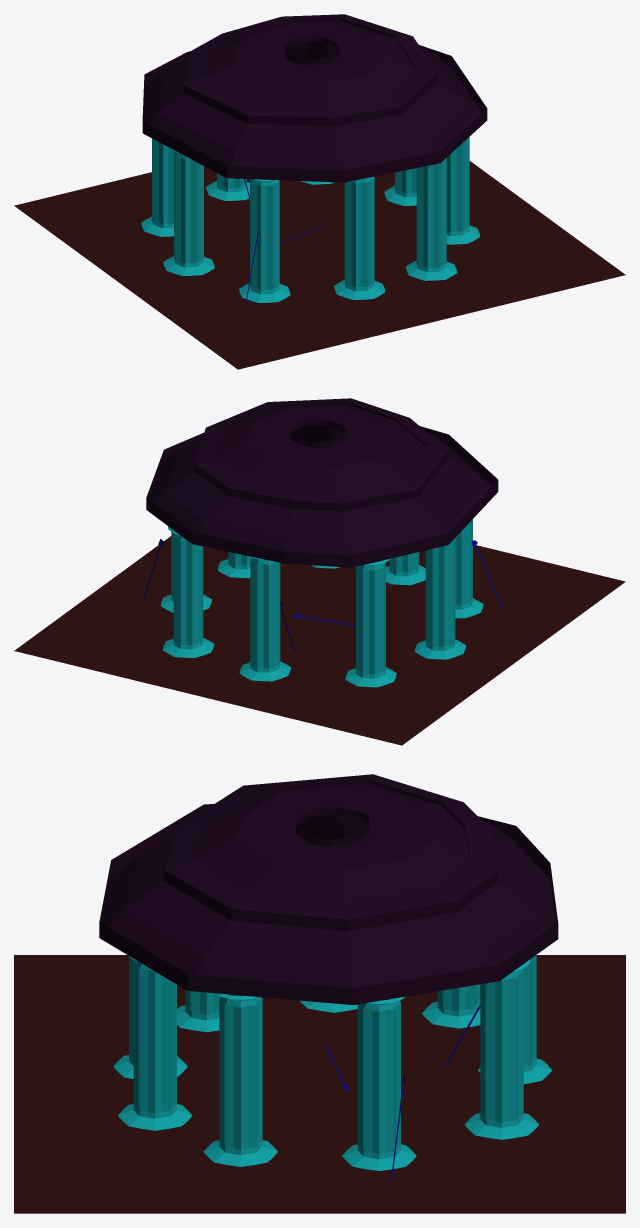
The model's file is SpearYard.obj.
3 views of the same model, one above another, from view 1: azimuth 30°, elevation 25°; view 2: azimuth 150°, elevation 25°; view 3: azimuth 270°, elevation 25° (orthographic). The views are drawn at different scales.
Parts seen in each view (by area): view 1: Plane, Plane.012_Plane.013, Plane.003_Plane.014, Plane.001_Plane.012, Plane.004_Plane.015, Plane.002, Plane.005_Plane.016, Plane.009_Plane.020, Plane.006_Plane.017, Plane.008_Plane.019; view 2: Plane, Plane.012_Plane.013, Plane.008_Plane.019, Plane.009_Plane.020, Plane.007_Plane.018, Plane.002, Plane.001_Plane.012, Plane.003_Plane.014, Plane.005_Plane.016, Plane.006_Plane.017; view 3: Plane, Plane.012_Plane.013, Plane.005_Plane.016, Plane.006_Plane.017, Plane.007_Plane.018, Plane.004_Plane.015, Plane.008_Plane.019, Plane.009_Plane.020, Plane.001_Plane.012, Plane.003_Plane.014.
Part boxes in pixels (x1,y1,x2,y2): Plane: (14,161,625,369); Plane.012_Plane.013: (142,14,487,182); Plane.003_Plane.014: (334,176,385,299); Plane.001_Plane.012: (239,179,290,302); Plane.004_Plane.015: (406,158,457,280); Plane.002: (163,148,214,275); Plane.005_Plane.016: (446,137,480,244); Plane.009_Plane.020: (141,138,173,236); Plane.006_Plane.017: (384,168,416,205); Plane.008_Plane.019: (206,173,249,200); Plane: (14,536,625,745); Plane.012_Plane.013: (146,398,498,567); Plane.008_Plane.019: (239,556,290,681); Plane.009_Plane.020: (345,558,396,687); Plane.007_Plane.018: (162,526,214,657); Plane.002: (414,538,466,659); Plane.001_Plane.012: (455,519,483,618); Plane.003_Plane.014: (386,552,425,585); Plane.005_Plane.016: (217,552,251,578); Plane.006_Plane.017: (160,532,211,612); Plane: (14,955,625,1213); Plane.012_Plane.013: (99,774,558,1004); Plane.005_Plane.016: (203,993,277,1166); Plane.006_Plane.017: (342,996,416,1170); Plane.007_Plane.018: (464,959,538,1139); Plane.004_Plane.015: (118,956,192,1130); Plane.008_Plane.019: (477,955,552,1083); Plane.009_Plane.020: (422,984,480,1028); Plane.001_Plane.012: (177,990,220,1032); Plane.003_Plane.014: (113,957,187,1078).
Size of the model in its own units: 1.33 by 0.6238 by 1.33.
